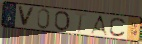0: (37, 8, 51, 30)
A: (89, 15, 108, 37)
C: (108, 16, 127, 38)
O: (53, 10, 71, 32)
T: (75, 11, 89, 34)
V: (17, 5, 36, 28)
